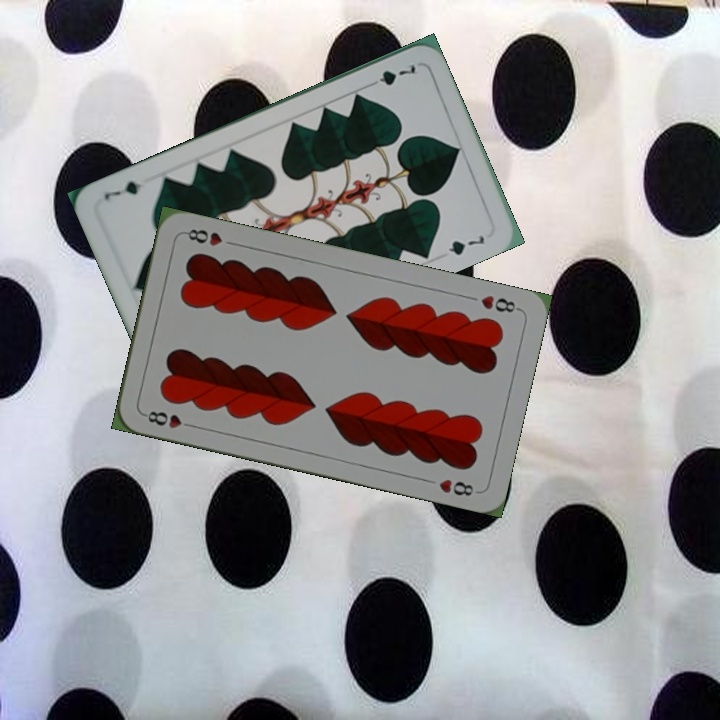G7: (364, 60, 419, 91)
H8: (139, 407, 198, 431), (477, 291, 523, 316)
